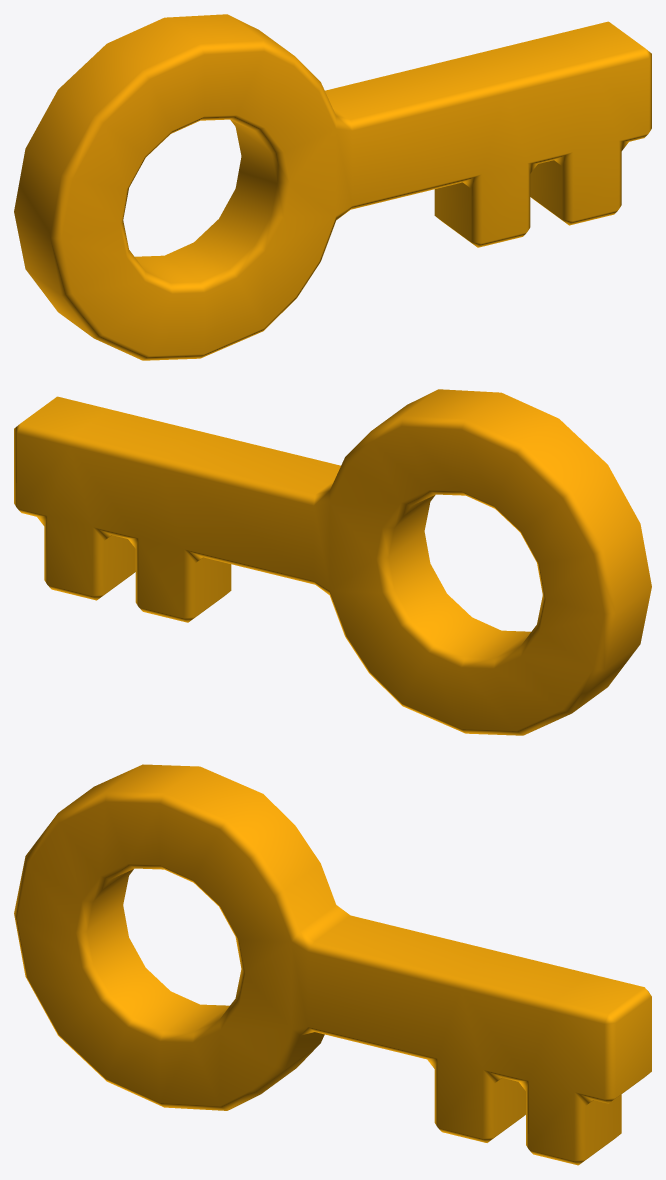
File: key_001.glb
3 views of the same model, one above another, from view 1: azimuth 30°, elevation 25°; view 2: azimuth 150°, elevation 25°; view 3: azimuth 330°, elevation 25° (orthographic).
Visible parts, largest first — view 1: key_001; view 2: key_001; view 3: key_001.
Part boxes in pixels (x1=…): key_001: x1=14, y1=14, x2=651, y2=360; key_001: x1=14, y1=389, x2=651, y2=735; key_001: x1=14, y1=764, x2=651, y2=1165.
Size of the model in its own units: 1.29 by 0.6441 by 0.1647.
Materials: 1 (1 with a texture image).
